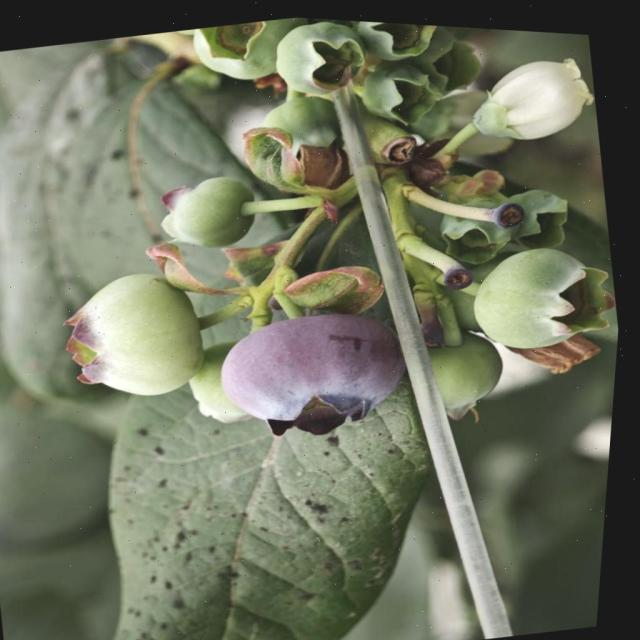Semi-RipeBlueBerry: (214, 288, 425, 446)
UnripeBlueBerry: (53, 255, 220, 412), (462, 223, 628, 356)
